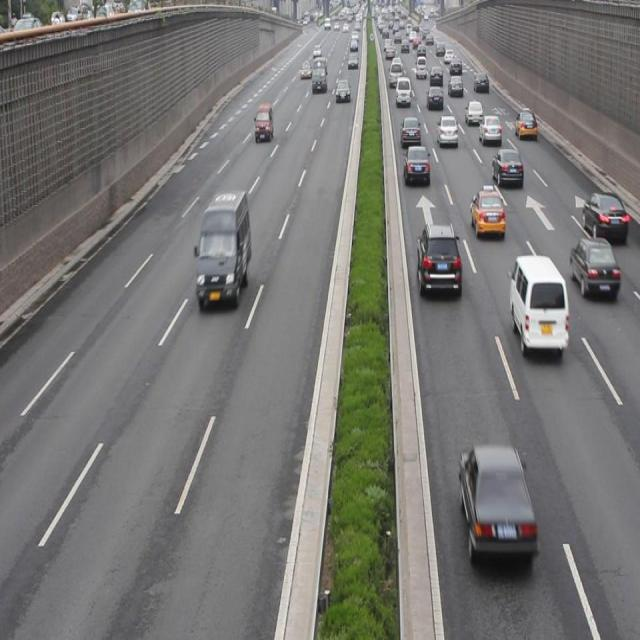car: (458, 441, 536, 566), (415, 221, 461, 300), (568, 237, 616, 300), (580, 190, 624, 250), (469, 188, 504, 238), (490, 147, 523, 188), (403, 143, 429, 184), (436, 115, 458, 148), (478, 113, 501, 144), (399, 116, 421, 145), (515, 110, 536, 139)
truck: (506, 254, 566, 360), (196, 192, 250, 308), (253, 103, 273, 144)
